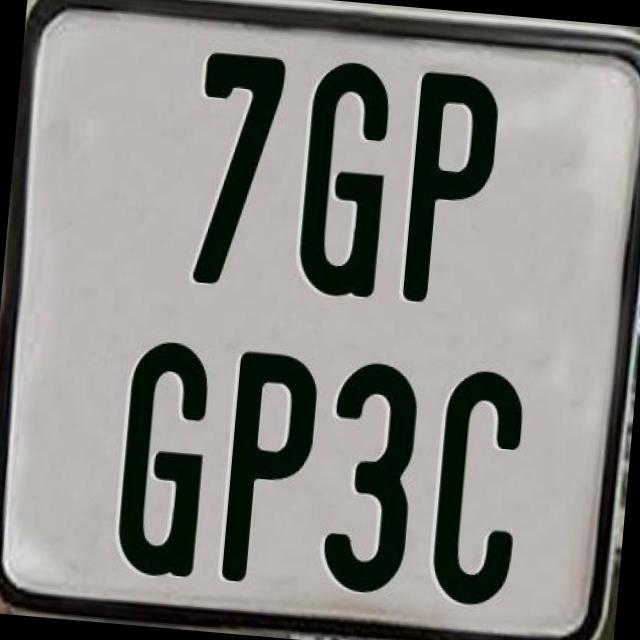3: (318, 358, 420, 602)
7: (185, 49, 292, 296)
C: (427, 363, 527, 604)
G: (112, 336, 214, 579), (292, 57, 389, 297)
P: (217, 348, 324, 586), (398, 70, 496, 308)
